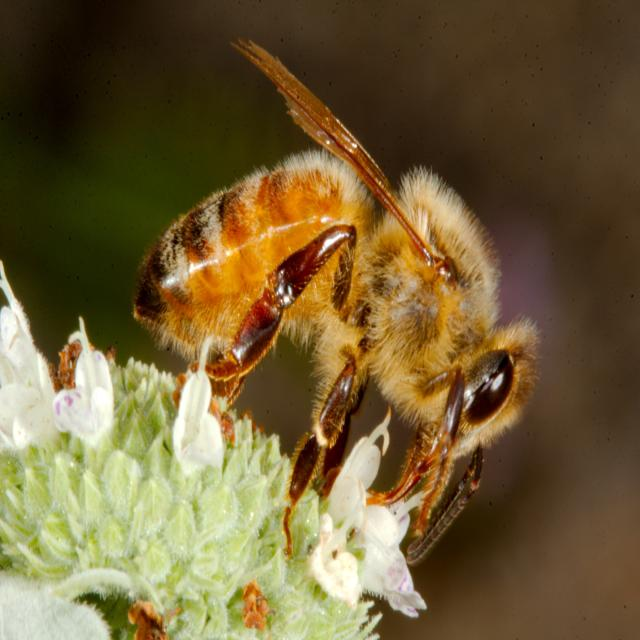Apis-mellifera-scutellata: (119, 0, 541, 598)
